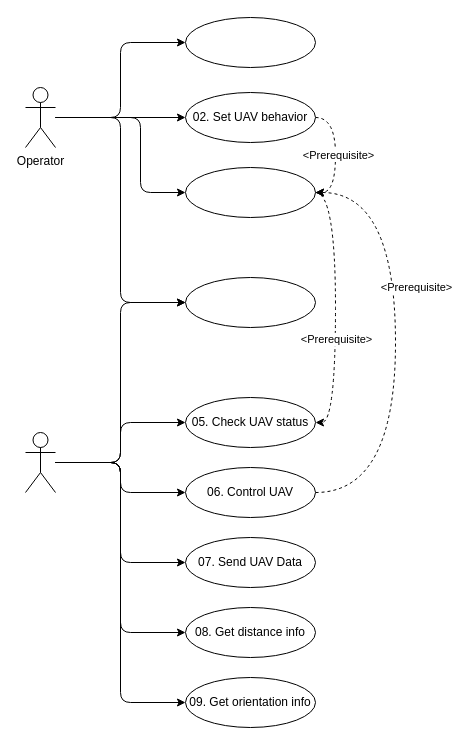
Some shapes in this 469 by 745 pixel diagram are drawn without their labels. Each missing label, with the centre of its shape:
01. Get UAV Data: (250,42)
03. Arm UAV: (250,192)
04. Disarm UAV: (250,302)
MCU: (40,462)
